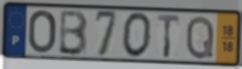7: (93, 8, 118, 59)
B: (57, 9, 89, 58)
O: (121, 11, 154, 60), (27, 9, 58, 55)
Q: (184, 14, 216, 62)
T: (156, 13, 182, 60)
